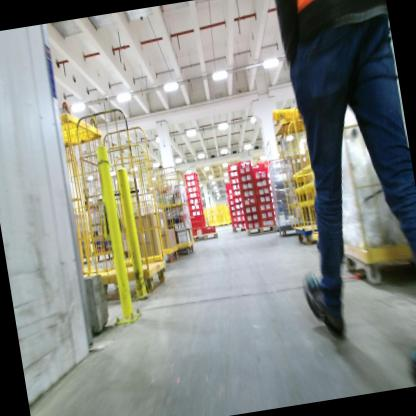pallet: (245, 223, 279, 238), (191, 232, 219, 243), (236, 225, 248, 233), (231, 226, 240, 233)
small_load_carrier: (236, 169, 254, 186), (235, 162, 253, 176), (243, 211, 261, 225), (251, 165, 267, 179), (239, 186, 256, 199), (255, 193, 272, 206), (238, 179, 255, 191), (241, 195, 258, 207), (244, 220, 262, 231), (189, 215, 204, 228), (242, 203, 258, 215), (260, 216, 276, 228), (254, 185, 271, 196), (259, 210, 275, 221), (257, 202, 273, 213), (191, 227, 206, 238), (253, 177, 269, 187), (184, 178, 198, 189), (183, 171, 197, 181), (185, 184, 199, 194), (188, 203, 203, 212), (187, 189, 200, 199), (203, 224, 216, 234), (252, 161, 266, 170), (237, 159, 251, 168), (226, 161, 239, 170), (188, 196, 201, 205), (189, 210, 203, 218), (235, 213, 245, 222), (227, 169, 238, 177), (230, 189, 241, 197), (229, 176, 239, 184), (231, 196, 242, 203), (237, 221, 248, 228), (230, 183, 240, 190), (233, 202, 243, 209), (231, 221, 239, 229), (229, 210, 238, 217), (234, 208, 243, 214), (228, 204, 235, 211), (226, 193, 233, 200), (225, 187, 232, 194), (224, 181, 231, 188), (230, 216, 238, 222), (227, 199, 234, 205)
